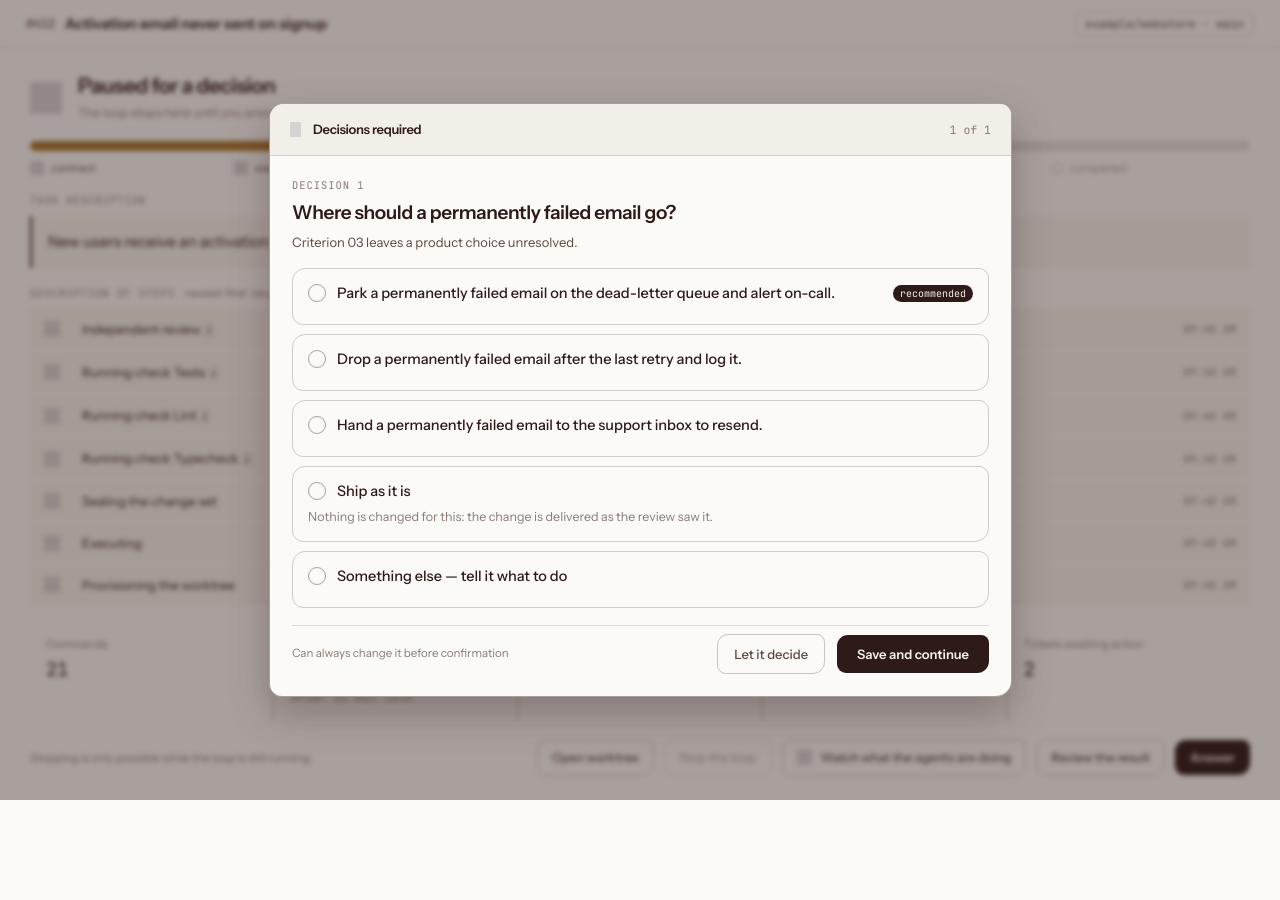
Test: the Architect's answers on the decision card (D-135) › keeps Let it decide off the answers, as the button beside Save and continue, and says it by that name
Expected: the button "Save and continue" is shown, x1=837 y1=635 x2=988 y2=673
Click the button "Let it decide".
click(771, 654)  # box x1=717 y1=634 x2=825 y2=674
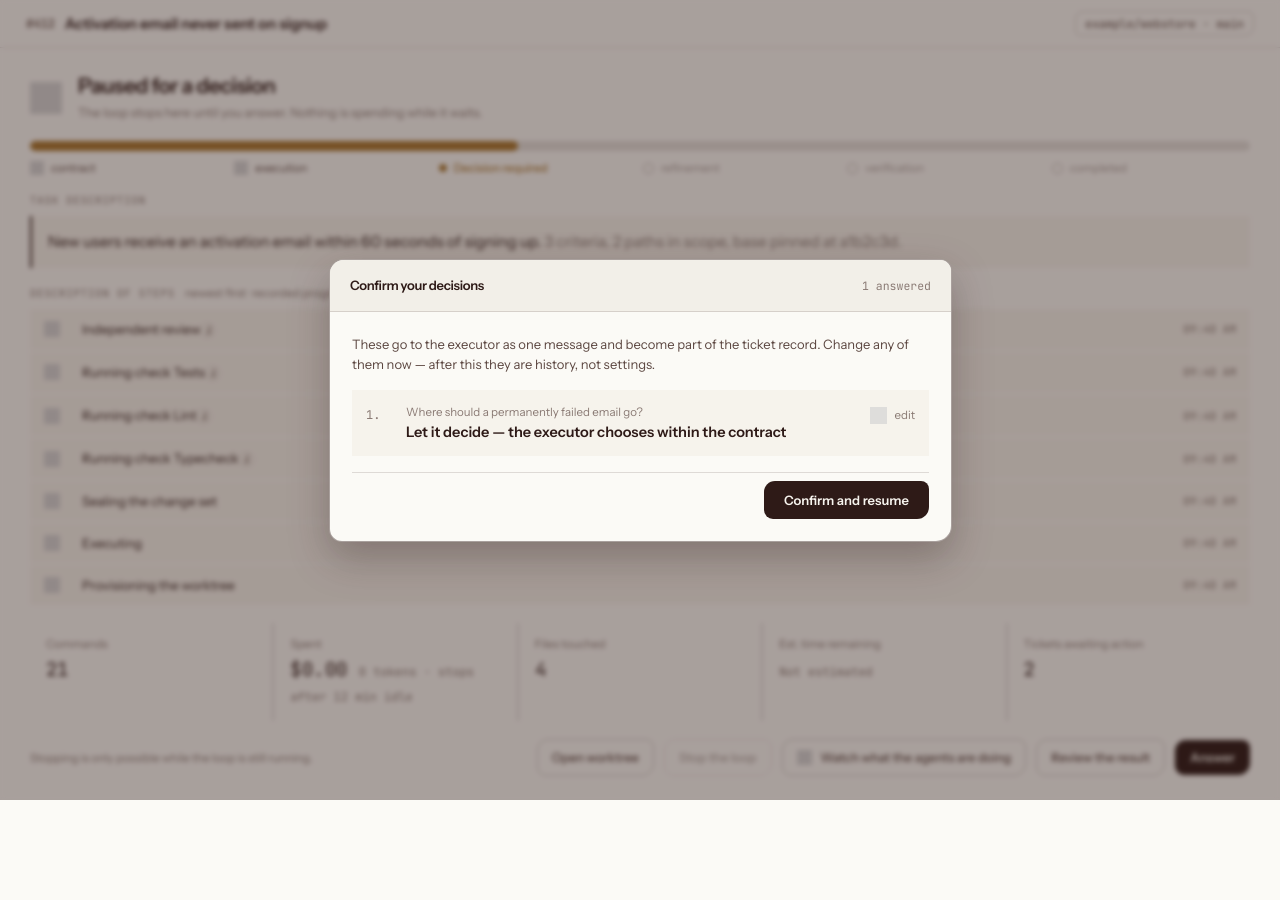
Result: the text "Let it decide — the executor chooses within the contract" is shown at x1=406 y1=422 x2=786 y2=440
